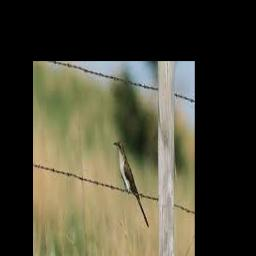Cuckoo: (113, 140, 149, 228)
